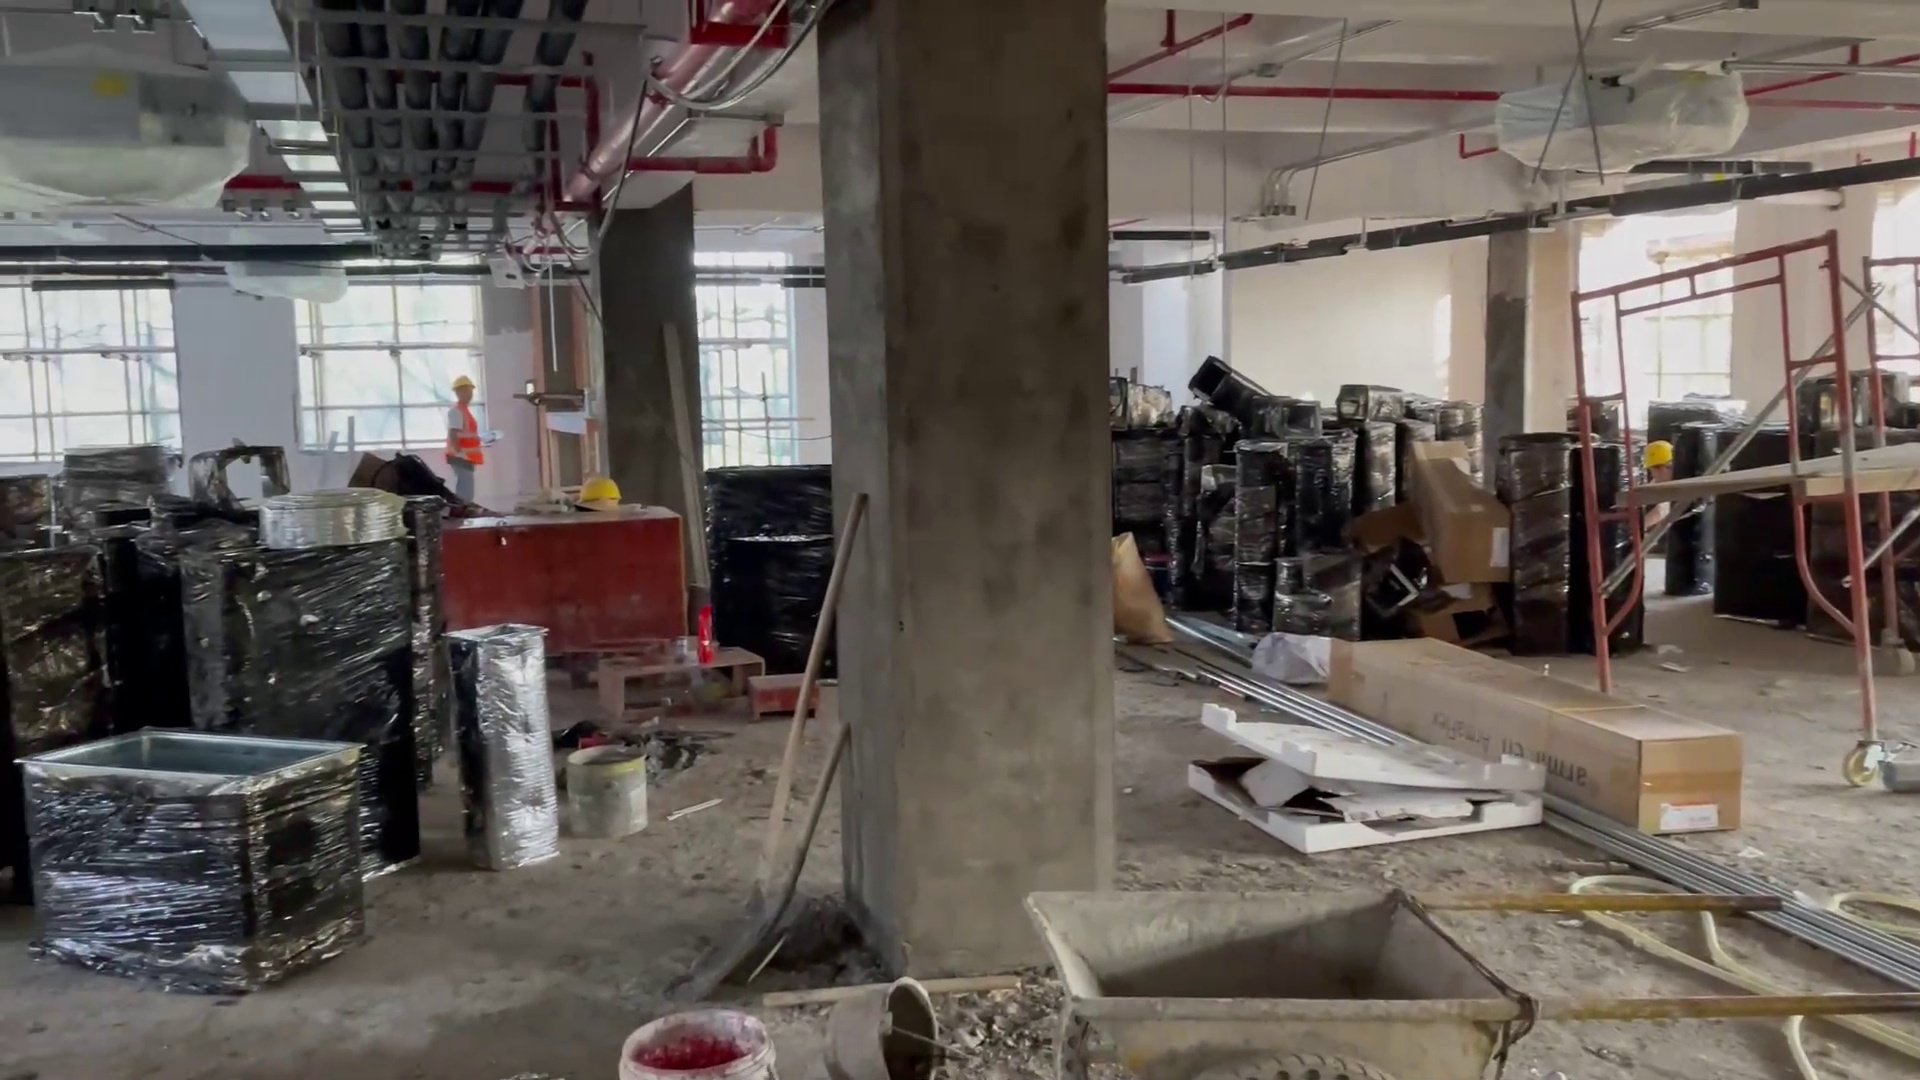handcart: (998, 866, 1898, 1080)
helmet: (576, 477, 624, 507), (1646, 439, 1673, 472), (446, 378, 480, 390)
person: (428, 355, 501, 506), (1624, 431, 1691, 525)
vest: (447, 401, 486, 465)
